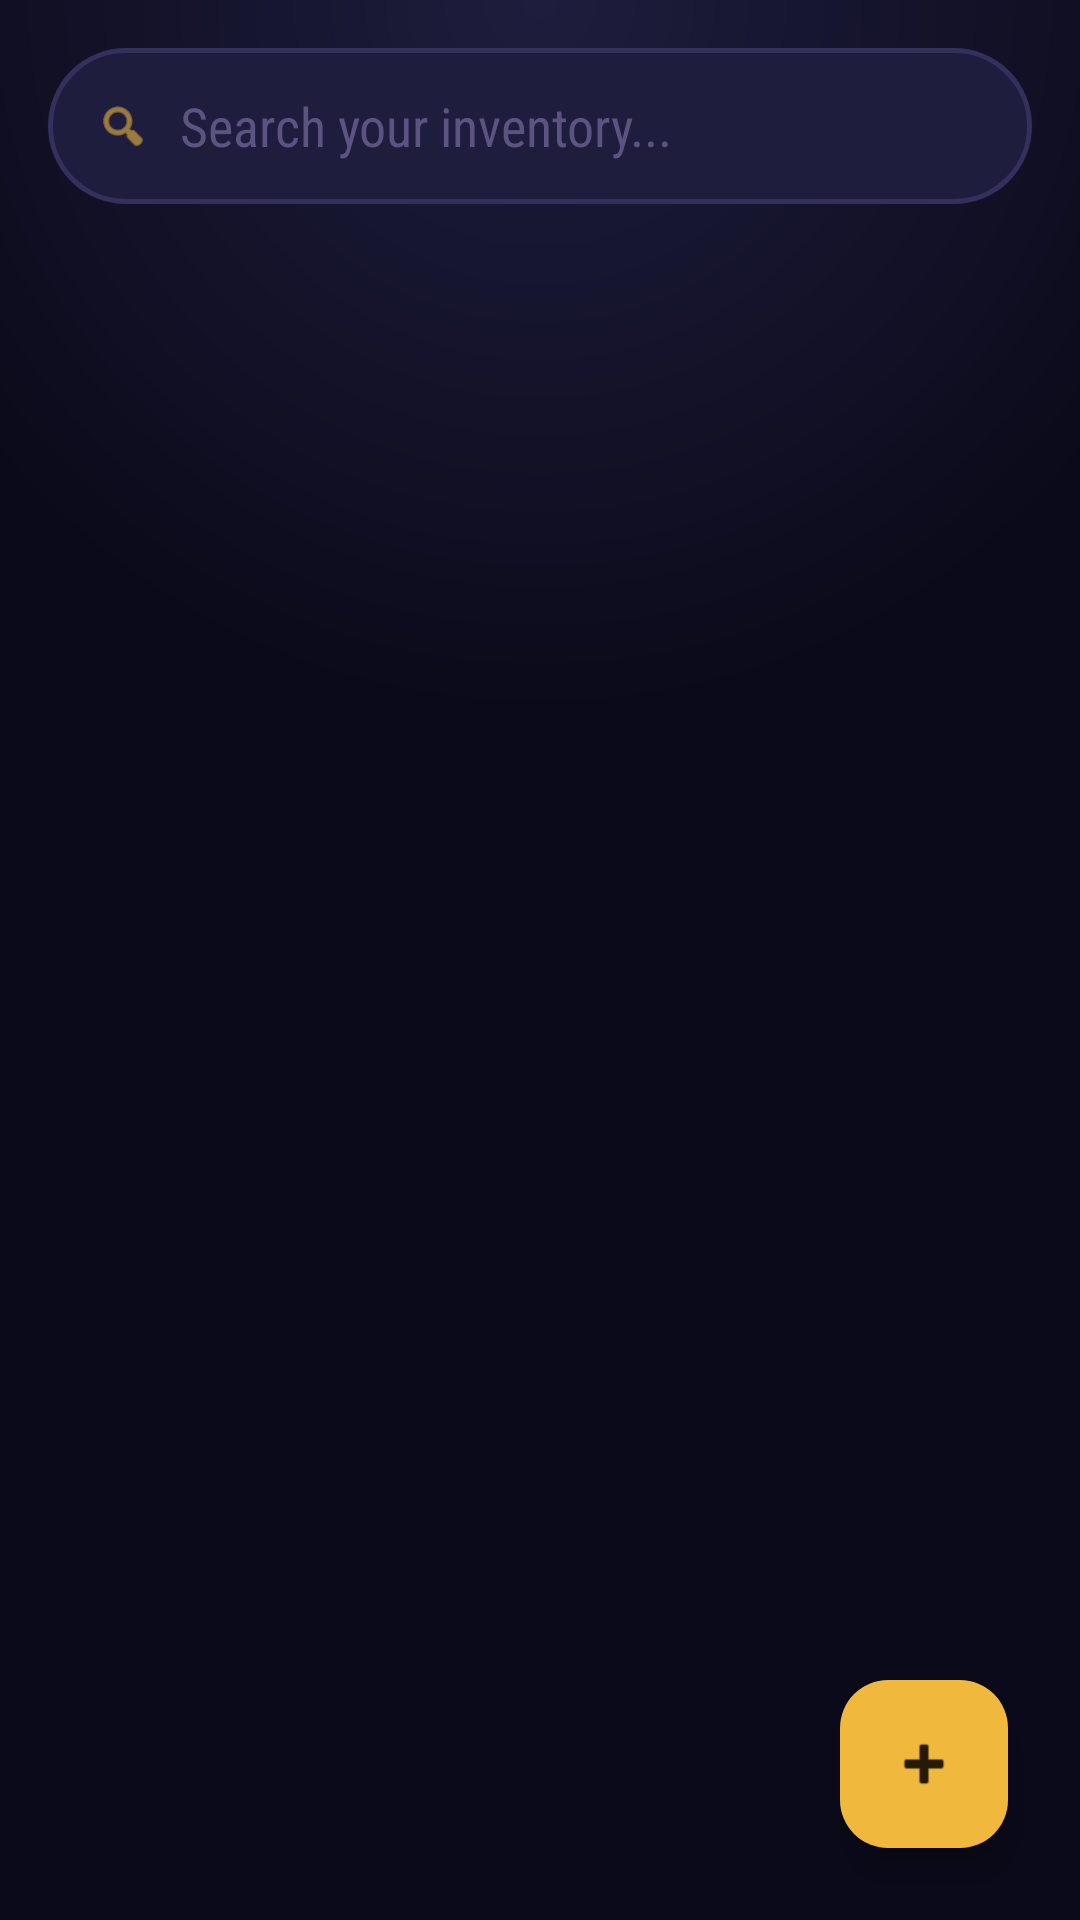

Named icons in this screenshot (1080*1920) and their centers, (x=x, y=y):
Add Item: (x=924, y=1764)
